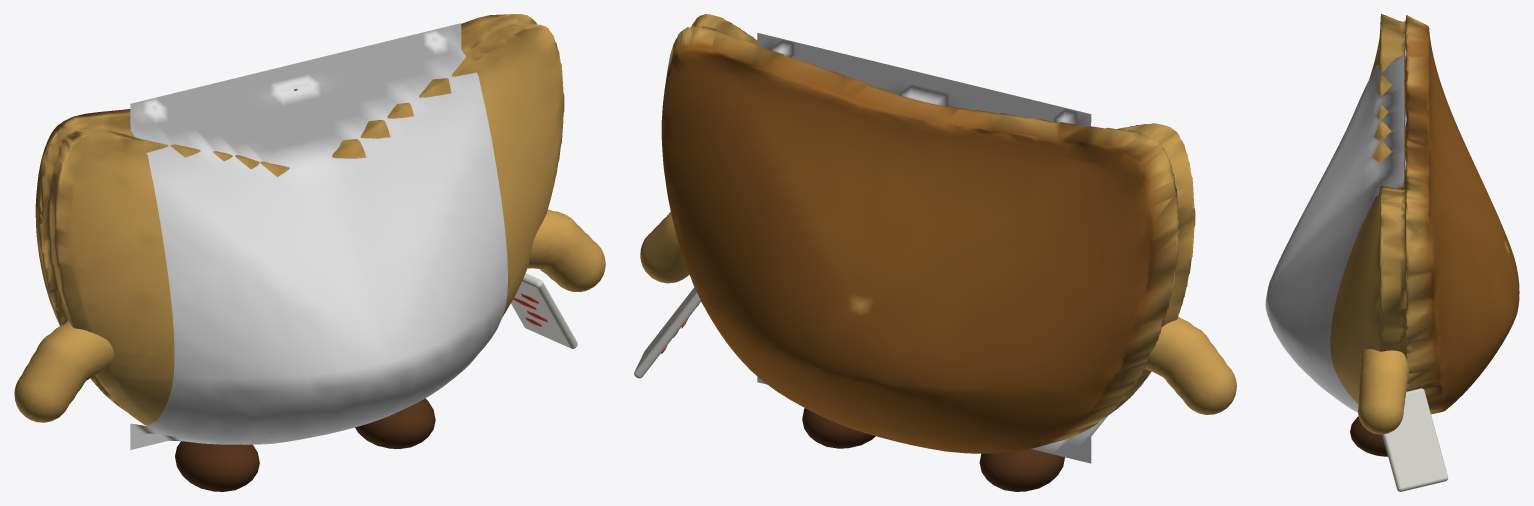
Rendered from folk2_fortune.glb.
3 renders of one model, left to right at view 1: azimuth 30°, elevation 25°; view 2: azimuth 150°, elevation 25°; view 3: azimuth 270°, elevation 25°, orthographic. The views are drawn at different scales.
Visible parts, largest first — view 1: fortune_face, fortune_body, fortune_arm_l, fortune_arm_r, fortune_foot_l, fortune_foot_r; view 2: fortune_body, fortune_face, fortune_arm_l, fortune_foot_l, fortune_arm_r, fortune_foot_r; view 3: fortune_body, fortune_face, fortune_arm_r, fortune_foot_r.
Boxes of the visible parts, bbox=[...] form: fortune_face: bbox=[130, 23, 507, 449]; fortune_body: bbox=[35, 14, 577, 425]; fortune_arm_l: bbox=[14, 321, 113, 422]; fortune_arm_r: bbox=[528, 209, 605, 291]; fortune_foot_l: bbox=[175, 441, 259, 491]; fortune_foot_r: bbox=[355, 398, 435, 448]; fortune_body: bbox=[634, 14, 1195, 453]; fortune_face: bbox=[757, 33, 1107, 463]; fortune_arm_l: bbox=[1144, 316, 1236, 414]; fortune_foot_l: bbox=[979, 449, 1064, 491]; fortune_arm_r: bbox=[640, 212, 689, 283]; fortune_foot_r: bbox=[802, 408, 875, 448]; fortune_body: bbox=[1330, 14, 1519, 491]; fortune_face: bbox=[1265, 40, 1406, 412]; fortune_arm_r: bbox=[1358, 349, 1409, 434]; fortune_foot_r: bbox=[1350, 416, 1387, 456].
Size of the model in its own units: 1.28 by 0.8288 by 0.5981.
